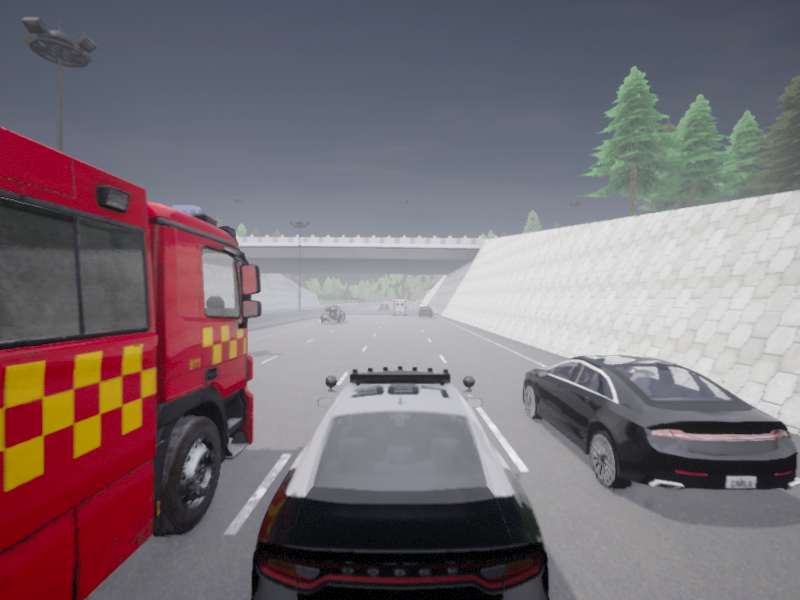vehicle: (0, 126, 260, 599), (251, 365, 549, 599), (523, 355, 799, 489), (321, 305, 344, 322), (392, 300, 407, 314), (418, 306, 432, 316), (379, 303, 389, 310), (408, 302, 414, 307)
